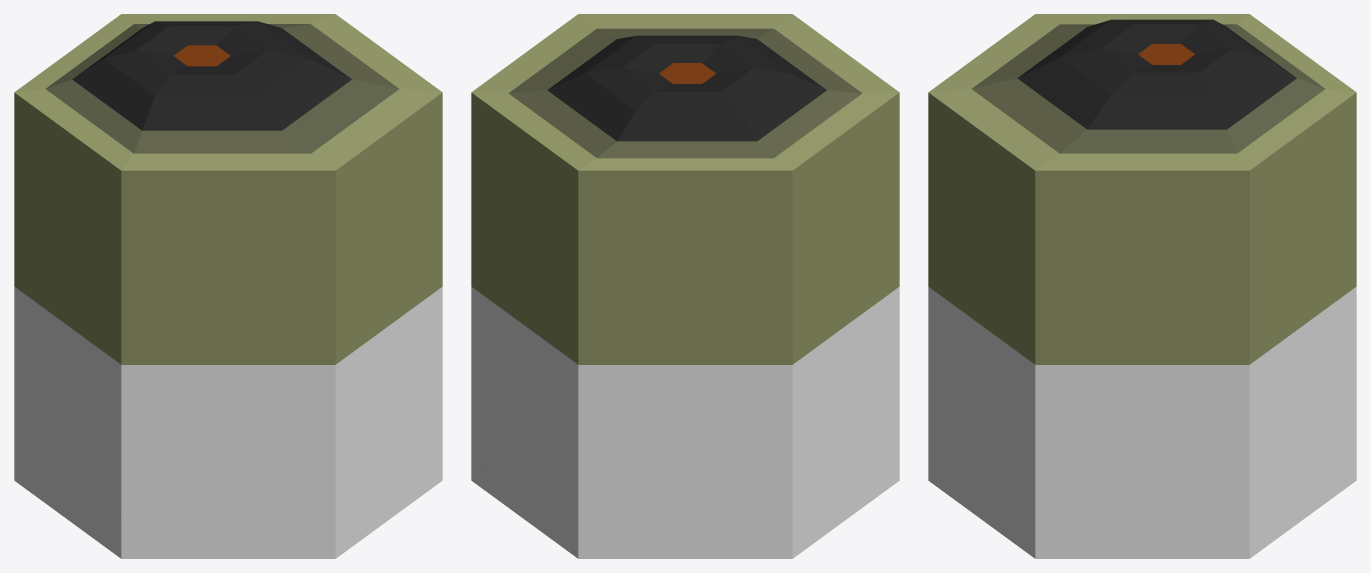
Rendered from HexCellImpactSiteV2.fbx.
3 renders of one model, left to right at view 1: azimuth 30°, elevation 25°; view 2: azimuth 150°, elevation 25°; view 3: azimuth 270°, elevation 25°, orthographic.
Parts seen in each view (by area): view 1: Circle; view 2: Circle; view 3: Circle.
Part boxes in pixels (x1=…): Circle: x1=14, y1=14, x2=442, y2=558; Circle: x1=471, y1=14, x2=899, y2=558; Circle: x1=928, y1=14, x2=1356, y2=558.
Bounding box in the file's own units: 173 × 219 × 200.
